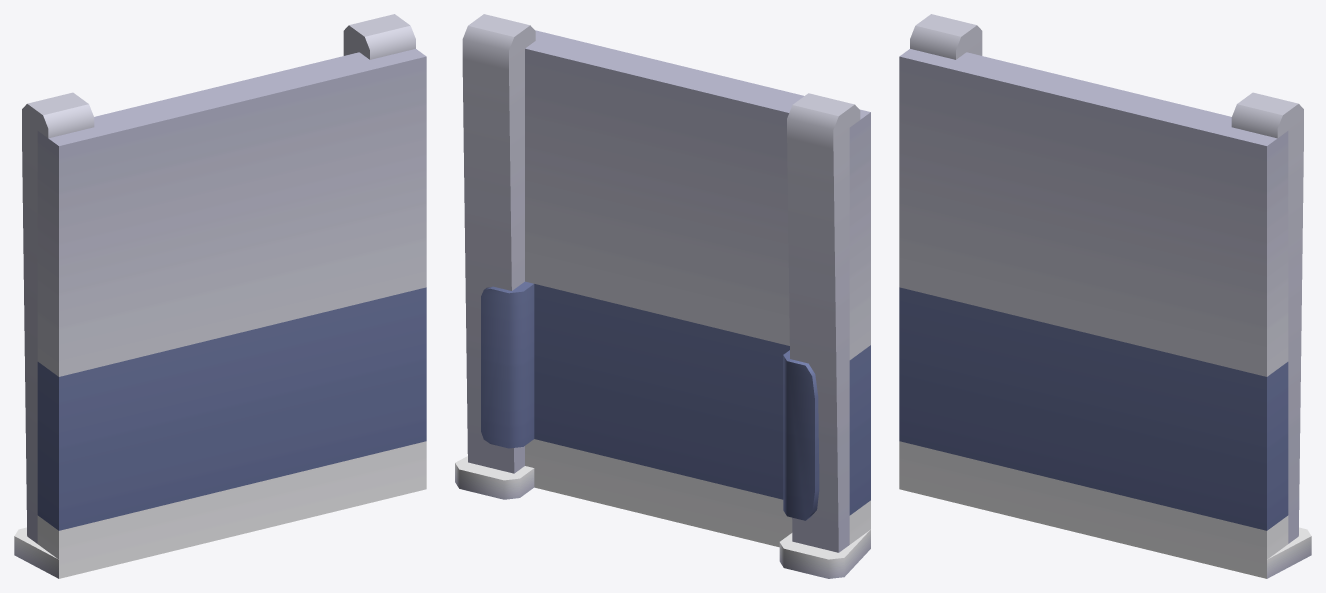
Rendered from template-wall-top.glb.
3 renders of one model, left to right at view 1: azimuth 30°, elevation 25°; view 2: azimuth 150°, elevation 25°; view 3: azimuth 330°, elevation 25°, orthographic.
Visible parts, largest first — view 1: template-wall-top; view 2: template-wall-top; view 3: template-wall-top.
Boxes of the visible parts, box(x1,y1,x2,y2) form: template-wall-top: box(14, 14, 426, 578); template-wall-top: box(455, 14, 870, 578); template-wall-top: box(899, 14, 1311, 578).
Bounding box in the file's own units: 4.2 × 4.7 × 0.7751.
Materials: 1 (1 with a texture image).
